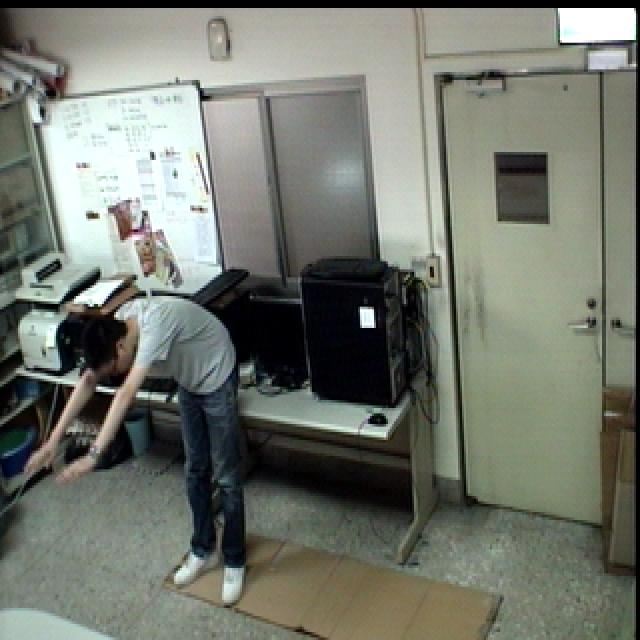bend: (18, 289, 258, 613)
